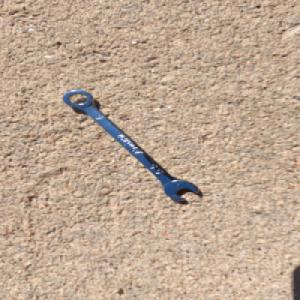Wrench: (60, 87, 201, 202)
